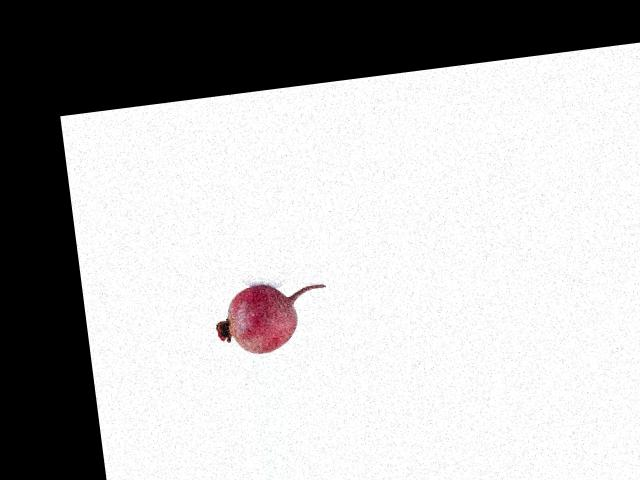beet: (212, 276, 333, 358)
